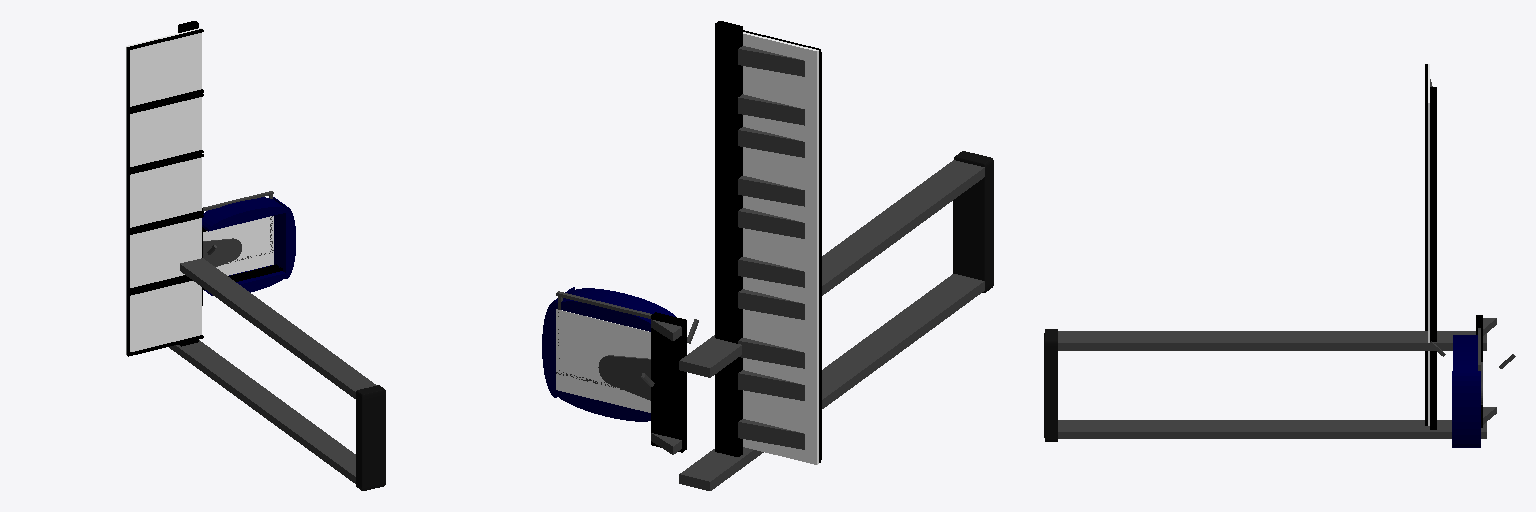
robot.urdf — tote:
<?xml version="1.0"?>
<robot name="tote">

  <link name="base_footprint"/>

  <joint name="base_footprint_joint" type="fixed">
    <parent link="base_footprint"/>
    <child link="base_link"/>
    <origin xyz="0 0 0" rpy="0 0 0"/>
  </joint>

  <link name="base_link">
  </link>

  <joint name="mast_joint" type="fixed">
    <parent link="base_link"/>
    <child link="mast_link"/>
    <origin xyz="0 0 0" rpy="0 0 0"/>
  </joint>
  <link name="mast_link">

    <visual> <geometry> <mesh filename="mast/mast_beam_up.dae"/> </geometry> </visual>
    <visual> <geometry> <mesh filename="mast/mast_beam_left.dae"/> </geometry> </visual>
    <visual> <geometry> <mesh filename="mast/mast_beam_right.dae"/> </geometry> </visual>    

    <visual> <origin xyz="0 0 0.0" rpy="0 0 0"/> <geometry> <mesh filename="mast/mast_tray_base.dae"/> </geometry> </visual>    
    <visual> <origin xyz="0 0 0.0" rpy="0 0 0"/> <geometry> <mesh filename="mast/mast_tray_back.dae"/> </geometry> </visual>    
    <visual> <origin xyz="0 0 0.0" rpy="0 0 0"/> <geometry> <mesh filename="mast/mast_tray_left.dae"/> </geometry> </visual>    
    <visual> <origin xyz="0 0 0.0" rpy="0 0 0"/> <geometry> <mesh filename="mast/mast_tray_right.dae"/> </geometry> </visual>    
    <visual> <origin xyz="0 0 0.0" rpy="0 0 0"/> <geometry> <mesh filename="mast/mast_tray_support_base.dae"/> </geometry> </visual>    
    <visual> <origin xyz="0 0 0.0" rpy="0 0 0"/> <geometry> <mesh filename="mast/mast_tray_support_left.dae"/> </geometry> </visual>    
    <visual> <origin xyz="0 0 0.0" rpy="0 0 0"/> <geometry> <mesh filename="mast/mast_tray_support_right.dae"/> </geometry> </visual>        

    <visual> <origin xyz="0 0 0.5" rpy="0 0 0"/> <geometry> <mesh filename="mast/mast_tray_base.dae"/> </geometry> </visual>    
    <visual> <origin xyz="0 0 0.5" rpy="0 0 0"/> <geometry> <mesh filename="mast/mast_tray_back.dae"/> </geometry> </visual>    
    <visual> <origin xyz="0 0 0.5" rpy="0 0 0"/> <geometry> <mesh filename="mast/mast_tray_left.dae"/> </geometry> </visual>    
    <visual> <origin xyz="0 0 0.5" rpy="0 0 0"/> <geometry> <mesh filename="mast/mast_tray_right.dae"/> </geometry> </visual>    
    <visual> <origin xyz="0 0 0.5" rpy="0 0 0"/> <geometry> <mesh filename="mast/mast_tray_support_base.dae"/> </geometry> </visual>    
    <visual> <origin xyz="0 0 0.5" rpy="0 0 0"/> <geometry> <mesh filename="mast/mast_tray_support_left.dae"/> </geometry> </visual>    
    <visual> <origin xyz="0 0 0.5" rpy="0 0 0"/> <geometry> <mesh filename="mast/mast_tray_support_right.dae"/> </geometry> </visual>        

    <visual> <origin xyz="0 0 1.0" rpy="0 0 0"/> <geometry> <mesh filename="mast/mast_tray_base.dae"/> </geometry> </visual>    
    <visual> <origin xyz="0 0 1.0" rpy="0 0 0"/> <geometry> <mesh filename="mast/mast_tray_back.dae"/> </geometry> </visual>    
    <visual> <origin xyz="0 0 1.0" rpy="0 0 0"/> <geometry> <mesh filename="mast/mast_tray_left.dae"/> </geometry> </visual>    
    <visual> <origin xyz="0 0 1.0" rpy="0 0 0"/> <geometry> <mesh filename="mast/mast_tray_right.dae"/> </geometry> </visual>    
    <visual> <origin xyz="0 0 1.0" rpy="0 0 0"/> <geometry> <mesh filename="mast/mast_tray_support_base.dae"/> </geometry> </visual>    
    <visual> <origin xyz="0 0 1.0" rpy="0 0 0"/> <geometry> <mesh filename="mast/mast_tray_support_left.dae"/> </geometry> </visual>    
    <visual> <origin xyz="0 0 1.0" rpy="0 0 0"/> <geometry> <mesh filename="mast/mast_tray_support_right.dae"/> </geometry> </visual>        

    <visual> <origin xyz="0 0 1.5" rpy="0 0 0"/> <geometry> <mesh filename="mast/mast_tray_base.dae"/> </geometry> </visual>    
    <visual> <origin xyz="0 0 1.5" rpy="0 0 0"/> <geometry> <mesh filename="mast/mast_tray_back.dae"/> </geometry> </visual>    
    <visual> <origin xyz="0 0 1.5" rpy="0 0 0"/> <geometry> <mesh filename="mast/mast_tray_left.dae"/> </geometry> </visual>    
    <visual> <origin xyz="0 0 1.5" rpy="0 0 0"/> <geometry> <mesh filename="mast/mast_tray_right.dae"/> </geometry> </visual>    
    <visual> <origin xyz="0 0 1.5" rpy="0 0 0"/> <geometry> <mesh filename="mast/mast_tray_support_base.dae"/> </geometry> </visual>    
    <visual> <origin xyz="0 0 1.5" rpy="0 0 0"/> <geometry> <mesh filename="mast/mast_tray_support_left.dae"/> </geometry> </visual>    
    <visual> <origin xyz="0 0 1.5" rpy="0 0 0"/> <geometry> <mesh filename="mast/mast_tray_support_right.dae"/> </geometry> </visual>        

    <visual> <origin xyz="0 0 2.0" rpy="0 0 0"/> <geometry> <mesh filename="mast/mast_tray_base.dae"/> </geometry> </visual>    
    <visual> <origin xyz="0 0 2.0" rpy="0 0 0"/> <geometry> <mesh filename="mast/mast_tray_back.dae"/> </geometry> </visual>    
    <visual> <origin xyz="0 0 2.0" rpy="0 0 0"/> <geometry> <mesh filename="mast/mast_tray_left.dae"/> </geometry> </visual>    
    <visual> <origin xyz="0 0 2.0" rpy="0 0 0"/> <geometry> <mesh filename="mast/mast_tray_right.dae"/> </geometry> </visual>    
    <visual> <origin xyz="0 0 2.0" rpy="0 0 0"/> <geometry> <mesh filename="mast/mast_tray_support_base.dae"/> </geometry> </visual>    
    <visual> <origin xyz="0 0 2.0" rpy="0 0 0"/> <geometry> <mesh filename="mast/mast_tray_support_left.dae"/> </geometry> </visual>    
    <visual> <origin xyz="0 0 2.0" rpy="0 0 0"/> <geometry> <mesh filename="mast/mast_tray_support_right.dae"/> </geometry> </visual>

    <collision> <geometry> <mesh filename="mast/mast_beam_up.dae"/> </geometry> </collision>
    <collision> <geometry> <mesh filename="mast/mast_beam_left.dae"/> </geometry> </collision>
    <collision> <geometry> <mesh filename="mast/mast_beam_right.dae"/> </geometry> </collision>

    <collision> <origin xyz="0 0 0.0" rpy="0 0 0"/> <geometry> <mesh filename="mast/mast_tray_base.dae"/> </geometry> </collision>
    <collision> <origin xyz="0 0 0.0" rpy="0 0 0"/> <geometry> <mesh filename="mast/mast_tray_back.dae"/> </geometry> </collision>
    <collision> <origin xyz="0 0 0.0" rpy="0 0 0"/> <geometry> <mesh filename="mast/mast_tray_left.dae"/> </geometry> </collision>
    <collision> <origin xyz="0 0 0.0" rpy="0 0 0"/> <geometry> <mesh filename="mast/mast_tray_right.dae"/> </geometry> </collision>
    <collision> <origin xyz="0 0 0.0" rpy="0 0 0"/> <geometry> <mesh filename="mast/mast_tray_support_base.dae"/> </geometry> </collision>
    <collision> <origin xyz="0 0 0.0" rpy="0 0 0"/> <geometry> <mesh filename="mast/mast_tray_support_left.dae"/> </geometry> </collision>
    <collision> <origin xyz="0 0 0.0" rpy="0 0 0"/> <geometry> <mesh filename="mast/mast_tray_support_right.dae"/> </geometry> </collision>

    <collision> <origin xyz="0 0 0.5" rpy="0 0 0"/> <geometry> <mesh filename="mast/mast_tray_base.dae"/> </geometry> </collision>
    <collision> <origin xyz="0 0 0.5" rpy="0 0 0"/> <geometry> <mesh filename="mast/mast_tray_back.dae"/> </geometry> </collision>
    <collision> <origin xyz="0 0 0.5" rpy="0 0 0"/> <geometry> <mesh filename="mast/mast_tray_left.dae"/> </geometry> </collision>
    <collision> <origin xyz="0 0 0.5" rpy="0 0 0"/> <geometry> <mesh filename="mast/mast_tray_right.dae"/> </geometry> </collision>
    <collision> <origin xyz="0 0 0.5" rpy="0 0 0"/> <geometry> <mesh filename="mast/mast_tray_support_base.dae"/> </geometry> </collision>
    <collision> <origin xyz="0 0 0.5" rpy="0 0 0"/> <geometry> <mesh filename="mast/mast_tray_support_left.dae"/> </geometry> </collision>
    <collision> <origin xyz="0 0 0.5" rpy="0 0 0"/> <geometry> <mesh filename="mast/mast_tray_support_right.dae"/> </geometry> </collision>

    <collision> <origin xyz="0 0 1.0" rpy="0 0 0"/> <geometry> <mesh filename="mast/mast_tray_base.dae"/> </geometry> </collision>
    <collision> <origin xyz="0 0 1.0" rpy="0 0 0"/> <geometry> <mesh filename="mast/mast_tray_back.dae"/> </geometry> </collision>
    <collision> <origin xyz="0 0 1.0" rpy="0 0 0"/> <geometry> <mesh filename="mast/mast_tray_left.dae"/> </geometry> </collision>
    <collision> <origin xyz="0 0 1.0" rpy="0 0 0"/> <geometry> <mesh filename="mast/mast_tray_right.dae"/> </geometry> </collision>
    <collision> <origin xyz="0 0 1.0" rpy="0 0 0"/> <geometry> <mesh filename="mast/mast_tray_support_base.dae"/> </geometry> </collision>
    <collision> <origin xyz="0 0 1.0" rpy="0 0 0"/> <geometry> <mesh filename="mast/mast_tray_support_left.dae"/> </geometry> </collision>
    <collision> <origin xyz="0 0 1.0" rpy="0 0 0"/> <geometry> <mesh filename="mast/mast_tray_support_right.dae"/> </geometry> </collision>

    <collision> <origin xyz="0 0 1.5" rpy="0 0 0"/> <geometry> <mesh filename="mast/mast_tray_base.dae"/> </geometry> </collision>
    <collision> <origin xyz="0 0 1.5" rpy="0 0 0"/> <geometry> <mesh filename="mast/mast_tray_back.dae"/> </geometry> </collision>
    <collision> <origin xyz="0 0 1.5" rpy="0 0 0"/> <geometry> <mesh filename="mast/mast_tray_left.dae"/> </geometry> </collision>
    <collision> <origin xyz="0 0 1.5" rpy="0 0 0"/> <geometry> <mesh filename="mast/mast_tray_right.dae"/> </geometry> </collision>
    <collision> <origin xyz="0 0 1.5" rpy="0 0 0"/> <geometry> <mesh filename="mast/mast_tray_support_base.dae"/> </geometry> </collision>
    <collision> <origin xyz="0 0 1.5" rpy="0 0 0"/> <geometry> <mesh filename="mast/mast_tray_support_left.dae"/> </geometry> </collision>
    <collision> <origin xyz="0 0 1.5" rpy="0 0 0"/> <geometry> <mesh filename="mast/mast_tray_support_right.dae"/> </geometry> </collision>

    <collision> <origin xyz="0 0 2.0" rpy="0 0 0"/> <geometry> <mesh filename="mast/mast_tray_base.dae"/> </geometry> </collision>
    <collision> <origin xyz="0 0 2.0" rpy="0 0 0"/> <geometry> <mesh filename="mast/mast_tray_back.dae"/> </geometry> </collision>
    <collision> <origin xyz="0 0 2.0" rpy="0 0 0"/> <geometry> <mesh filename="mast/mast_tray_left.dae"/> </geometry> </collision>
    <collision> <origin xyz="0 0 2.0" rpy="0 0 0"/> <geometry> <mesh filename="mast/mast_tray_right.dae"/> </geometry> </collision>
    <collision> <origin xyz="0 0 2.0" rpy="0 0 0"/> <geometry> <mesh filename="mast/mast_tray_support_base.dae"/> </geometry> </collision>
    <collision> <origin xyz="0 0 2.0" rpy="0 0 0"/> <geometry> <mesh filename="mast/mast_tray_support_left.dae"/> </geometry> </collision>
    <collision> <origin xyz="0 0 2.0" rpy="0 0 0"/> <geometry> <mesh filename="mast/mast_tray_support_right.dae"/> </geometry> </collision>

    <inertial>
      <mass value="200.0"/> 
      <origin xyz="0 0 0.3" rpy="0 0 0"/>
      <inertia ixx="20.0" ixy="0.0" ixz="0.0" iyy="20.0" iyz="0.0" izz="5.0"/>
    </inertial>
  </link>

  <joint name="lift_z_joint" type="prismatic">
    <parent link="mast_link"/>
    <child link="lift_shuttle_link"/>
    <origin xyz="-0.05 0 0.2" rpy="0 0 0"/>
    <axis xyz="0 0 1"/> <limit lower="0.0" upper="2.5" effort="500" velocity="0.6"/>
  </joint>

  <link name="lift_shuttle_link">

    <visual> <geometry> <mesh filename="lift_base/lift_base_back.dae"/> </geometry> </visual>
    <visual> <geometry> <mesh filename="lift_base/lift_base_middle.dae"/> </geometry> </visual>
    <visual> <geometry> <mesh filename="lift_base/lift_base_front.dae"/> </geometry> </visual>
    <visual> <geometry> <mesh filename="lift_base/lift_base_support_left.dae"/> </geometry> </visual>
    <visual> <geometry> <mesh filename="lift_base/lift_base_support_right.dae"/> </geometry> </visual>
    
    <collision> <geometry> <mesh filename="lift_base/lift_base_back.dae"/> </geometry> </collision>
    <collision> <geometry> <mesh filename="lift_base/lift_base_middle.dae"/> </geometry> </collision>
    <collision> <geometry> <mesh filename="lift_base/lift_base_front.dae"/> </geometry> </collision>
    <collision> <geometry> <mesh filename="lift_base/lift_base_support_left.dae"/> </geometry> </collision>
    <collision> <geometry> <mesh filename="lift_base/lift_base_support_right.dae"/> </geometry> </collision>
  
    <inertial>
      <mass value="1.0"/> 
      <origin xyz="0 0 0" rpy="0 0 0"/>
      <inertia ixx="0.2" ixy="0.0" ixz="0.0" iyy="0.2" iyz="0.0" izz="0.05"/>
    </inertial>
  </link>

  <joint name="lift_rotation_joint" type="revolute">
    <parent link="lift_shuttle_link"/>
    <child link="shuttle_rotator_link"/>
    <origin xyz="0.4 0 0.04" rpy="0 0 0"/> <axis xyz="0 0 1"/> <limit lower="-1.5708" upper="1.5708" effort="100" velocity="1.0"/> </joint>

  <link name="shuttle_rotator_link">
    
    <visual> <geometry> <mesh filename="lift_rotation/lift_rotation_base.dae"/> </geometry> </visual>
    <visual> <geometry> <mesh filename="lift_rotation/lift_rotation_left.dae"/> </geometry> </visual>
    <visual> <geometry> <mesh filename="lift_rotation/lift_rotation_right.dae"/> </geometry> </visual>
    <visual> <geometry> <mesh filename="lift_rotation/lift_rotation_front.dae"/> </geometry> </visual>
    <visual> <geometry> <mesh filename="lift_rotation/lift_rotation_leftrail_down.dae"/> </geometry> </visual>
    <visual> <geometry> <mesh filename="lift_rotation/lift_rotation_leftrail_up.dae"/> </geometry> </visual>
    <visual> <geometry> <mesh filename="lift_rotation/lift_rotation_rightrail_down.dae"/> </geometry> </visual>    
    <visual> <geometry> <mesh filename="lift_rotation/lift_rotation_rightrail_up.dae"/> </geometry> </visual>    

    <collision><geometry> <mesh filename="lift_rotation/lift_rotation_base.dae"/> </geometry> </collision>
    <collision><geometry> <mesh filename="lift_rotation/lift_rotation_left.dae"/> </geometry> </collision>
    <collision><geometry> <mesh filename="lift_rotation/lift_rotation_right.dae"/> </geometry> </collision>
    <collision><geometry> <mesh filename="lift_rotation/lift_rotation_front.dae"/> </geometry> </collision>
    <collision><geometry> <mesh filename="lift_rotation/lift_rotation_leftrail_down.dae"/> </geometry> </collision>
    <collision><geometry> <mesh filename="lift_rotation/lift_rotation_leftrail_up.dae"/> </geometry> </collision>
    <collision><geometry> <mesh filename="lift_rotation/lift_rotation_rightrail_down.dae"/> </geometry> </collision>
    <collision><geometry> <mesh filename="lift_rotation/lift_rotation_rightrail_up.dae"/> </geometry> </collision>

    <inertial>
      <mass value="1.0"/> 
      <origin xyz="0 0 0" rpy="0 0 0"/>
      <inertia ixx="0.2" ixy="0.0" ixz="0.0" iyy="0.2" iyz="0.0" izz="0.05"/>
    </inertial>

  </link>

  <joint name="fork_extension_joint" type="prismatic">
    <parent link="shuttle_rotator_link"/>
    <child link="fork_arm_link"/>
    <origin xyz="0.3 0 0.1" rpy="0 0 0"/> <axis xyz="-1 0 0"/> <limit lower="0.0" upper="1.2" effort="150" velocity="0.5"/> </joint>

  <link name="fork_arm_link">
    
    <visual><geometry> <mesh filename="lift_arm/lift_arm_front.dae"/> </geometry> </visual>
    <visual><geometry> <mesh filename="lift_arm/lift_arm_left.dae"/> </geometry> </visual>
    <visual><geometry> <mesh filename="lift_arm/lift_arm_right.dae"/> </geometry> </visual>    

    <collision><geometry> <mesh filename="lift_arm/lift_arm_front.dae"/> </geometry> </collision>
    <collision><geometry> <mesh filename="lift_arm/lift_arm_left.dae"/> </geometry> </collision>
    <collision><geometry> <mesh filename="lift_arm/lift_arm_right.dae"/> </geometry> </collision>
    
    <inertial>
      <mass value="1.0"/> 
      <origin xyz="0 0 0" rpy="0 0 0"/>
      <inertia ixx="0.2" ixy="0.0" ixz="0.0" iyy="0.2" iyz="0.0" izz="0.05"/>
    </inertial>
  </link>

  <joint name="left_claw_joint" type="revolute">
    <parent link="fork_arm_link"/>
    <child link="left_claw_link"/>
    <origin xyz="-0.68 -0.25 0" rpy="0.7854 0 0"/> <axis xyz="1 0 0"/> <limit lower="-0.8" upper="0.8" effort="50" velocity="0.1"/> </joint>

  <link name="left_claw_link">
    <visual>
      <geometry> <mesh filename="lift_claw_l.dae"/> </geometry>
    </visual>
    <collision><geometry> <mesh filename="lift_claw_l.dae"/> </geometry> </collision>
  </link>

  <joint name="right_claw_joint" type="revolute">
    <parent link="fork_arm_link"/>
    <child link="right_claw_link"/>
    <origin xyz="-0.68 0.25 0" rpy="-0.7854 0 0"/> <axis xyz="-1 0 0"/> <limit lower="-0.8" upper="0.8" effort="50" velocity="0.1"/> </joint>

  <link name="right_claw_link">
    <visual>
      <geometry> <mesh filename="lift_claw_r.dae"/> </geometry>
    </visual>
    <collision><geometry> <mesh filename="lift_claw_r.dae"/> </geometry> </collision>
  </link>
 
</robot>

--- Facts derived from the render (not from the file) ---
The picture shows the robot from 3 angles, left to right: view 1: azimuth 30°, elevation 25°; view 2: azimuth 150°, elevation 25°; view 3: azimuth 270°, elevation 25°; orthographic projection.
Model tote with 8 links and 7 joints (3 revolute, 2 prismatic, 2 fixed), rooted at base_footprint, posed every joint at zero.
Links seen in each view (by area): view 1: mast_link, shuttle_rotator_link, lift_shuttle_link; view 2: mast_link, shuttle_rotator_link, lift_shuttle_link, fork_arm_link; view 3: mast_link, shuttle_rotator_link, lift_shuttle_link.
Boxes of the visible links, x1,y1,x2,y2 form: mast_link: (126, 21, 385, 490); shuttle_rotator_link: (202, 197, 295, 295); lift_shuttle_link: (202, 208, 241, 305); mast_link: (679, 21, 993, 490); shuttle_rotator_link: (542, 287, 675, 421); lift_shuttle_link: (598, 312, 686, 454); fork_arm_link: (556, 291, 651, 389); mast_link: (1044, 64, 1486, 441); shuttle_rotator_link: (1452, 335, 1480, 447); lift_shuttle_link: (1476, 315, 1496, 427).
Bounding box of the posed robot: 1.57 × 3.37 × 2.72 m (x, y, z).
56 mesh visuals loaded from 28 distinct referenced files (28 Collada DAE).
